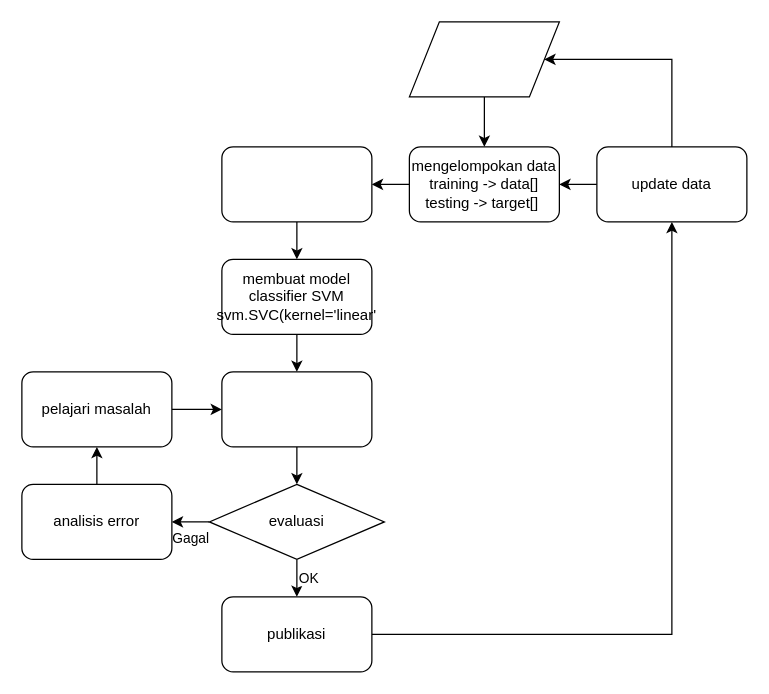
Some shapes in this 769 by 694 pixel diagram are drawn without their labels. The shapes that lost their labels are listed below. From the top down, each one's centre as x and y in pixels, then its label:
At pixel 483 59: "ambil data heart.csv".
At pixel 296 184: "mengatur data testing 20% train_test_split".
At pixel 296 409: "training clf.fit(X_train, y_train)".
